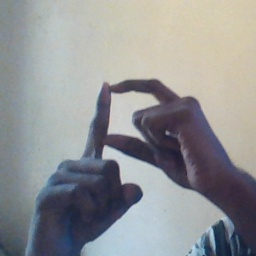D: (68, 71, 197, 197)
